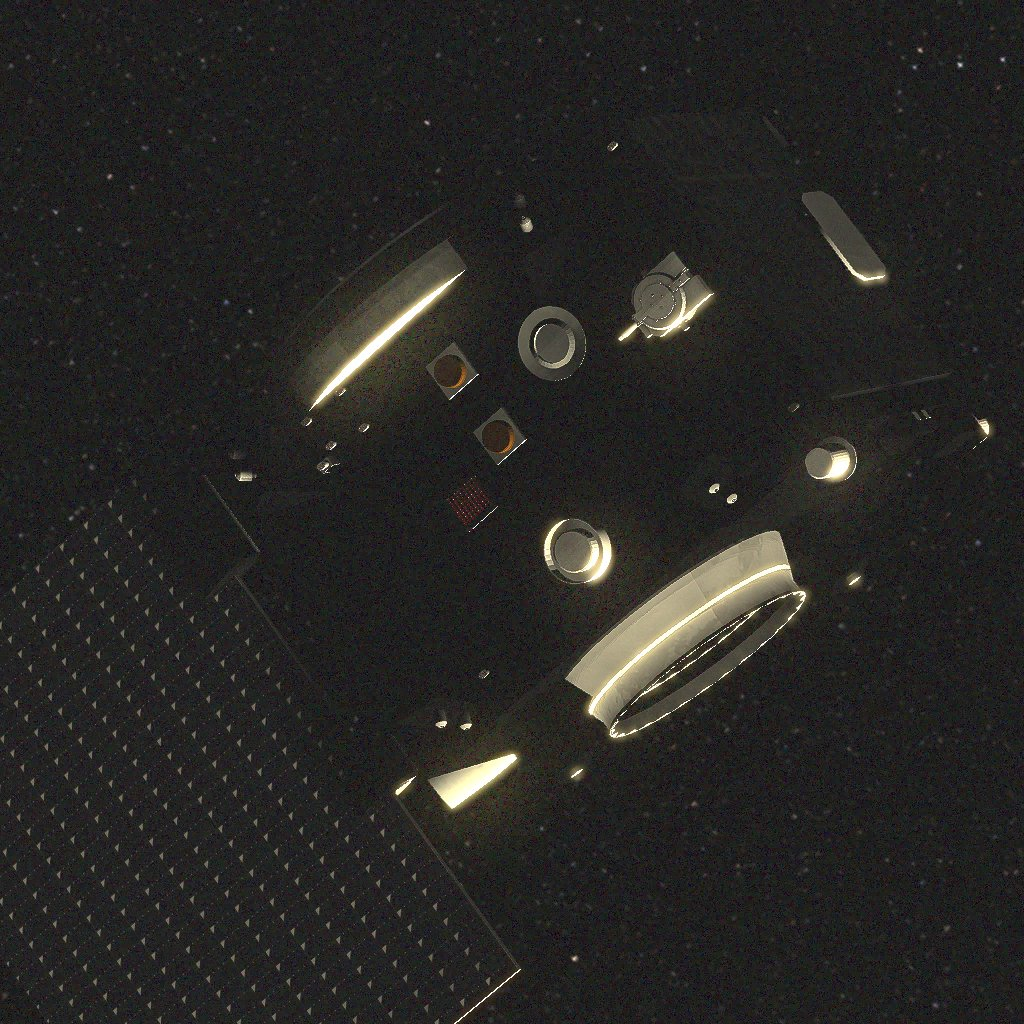proba_3_csc: (0, 89, 989, 1024)
